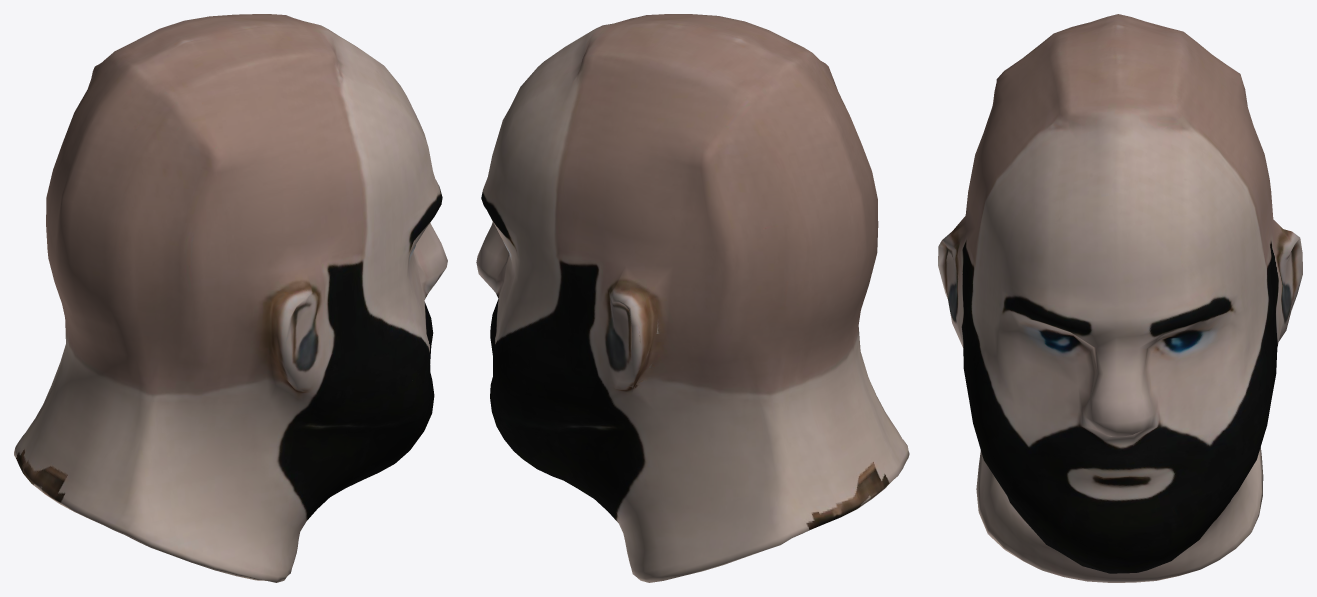
Rendered from 6e27b1b40e5a_tom_segura__head__l.fbx.
3 renders of one model, left to right at view 1: azimuth 30°, elevation 25°; view 2: azimuth 150°, elevation 25°; view 3: azimuth 270°, elevation 25°, orthographic.
Visible parts, largest first — view 1: mesh; view 2: mesh; view 3: mesh.
Part boxes in pixels (<box>): mesh: <box>14,14,447,582</box>; mesh: <box>476,14,909,582</box>; mesh: <box>938,14,1302,582</box>.
Size of the model in its own units: 78.79 by 99.36 by 63.38.
